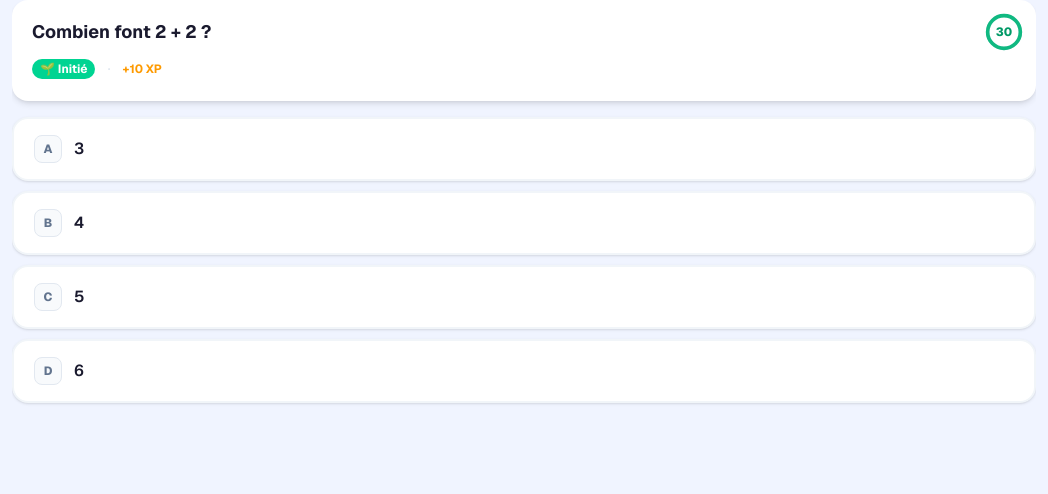
Test: QuizCard › reveals correct answer after selection
What coordinates should you click on to do the following:
click the text "4"
I would click on:
 (79, 223)
Its box is x1=74 y1=212 x2=84 y2=234.
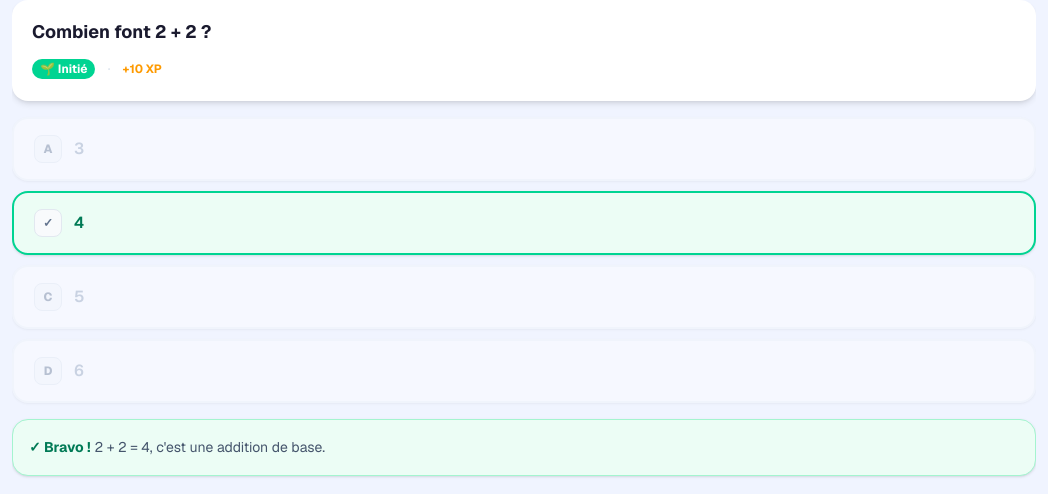
expect the text "✓ Bravo !" is shown: met, box x1=29 y1=438 x2=90 y2=456
expect the text "2 + 2 = 4, c'est une addition de base." is shown: met, box x1=94 y1=438 x2=325 y2=456
